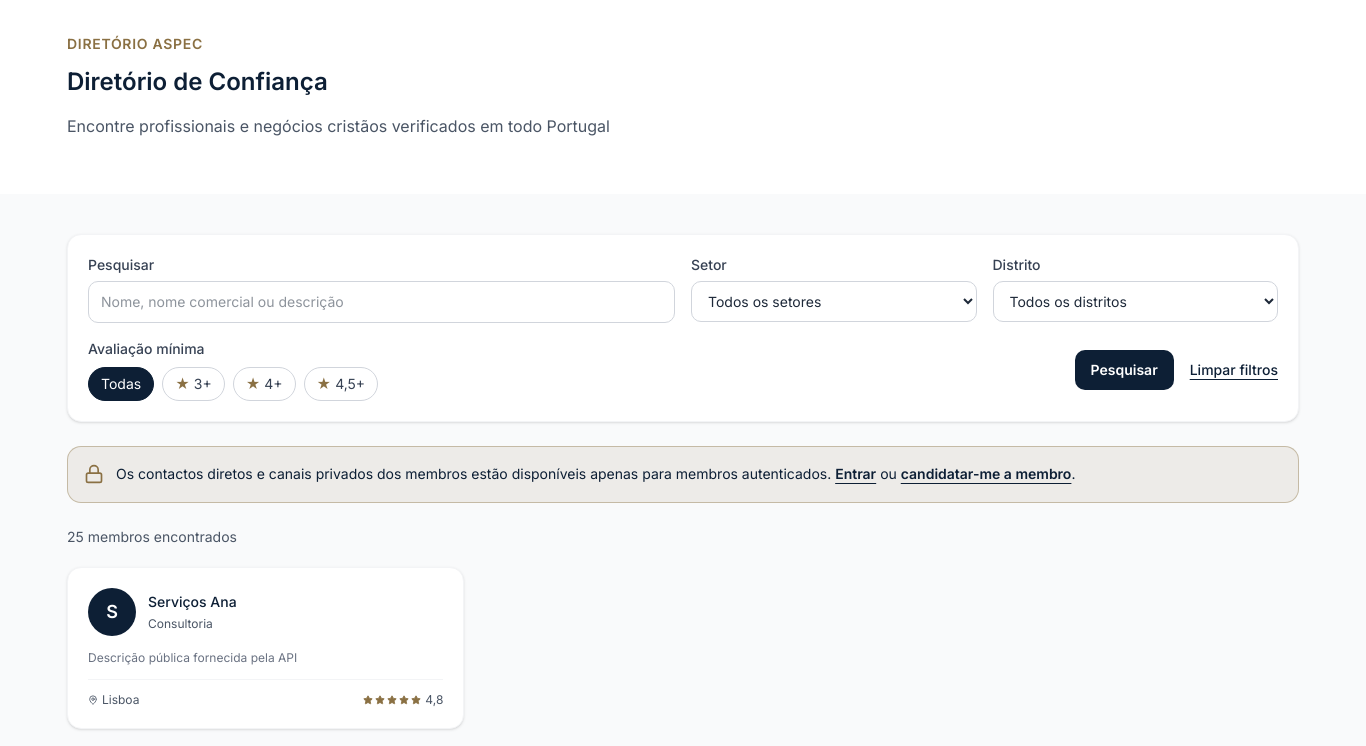
it: Diretório de membros › limpa a pesquisa pelo X nativo e regressa à primeira página preservando os outros filtros
Expected: the heading "Serviços Ana" is shown, [148, 592, 237, 612]
Select "Consultoria" in the dropdown labelled "Setor" at (834, 302), box [691, 281, 976, 322]
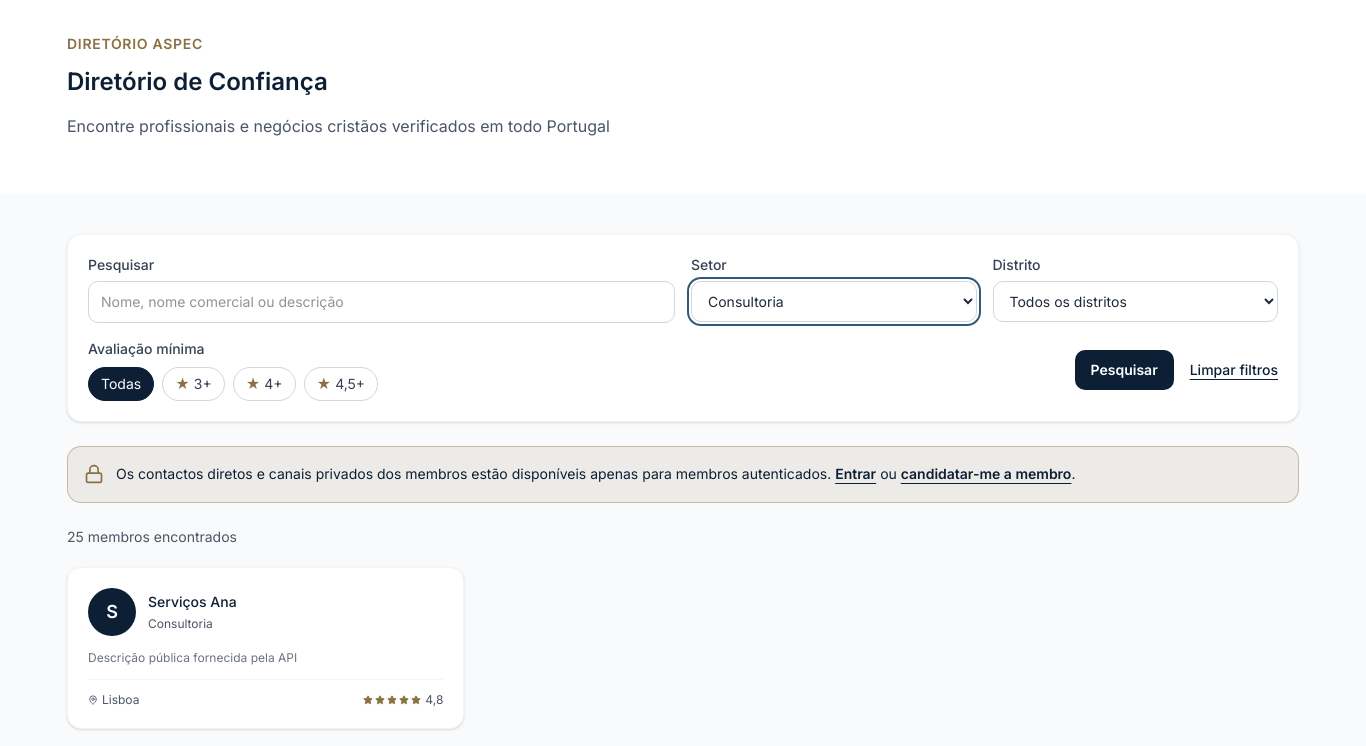
Expected: the heading "Serviços Ana" is shown, [148, 592, 237, 612]
Select "Lisboa" in the dropdown labelled "Distrito" at (1135, 302), box [992, 281, 1278, 322]
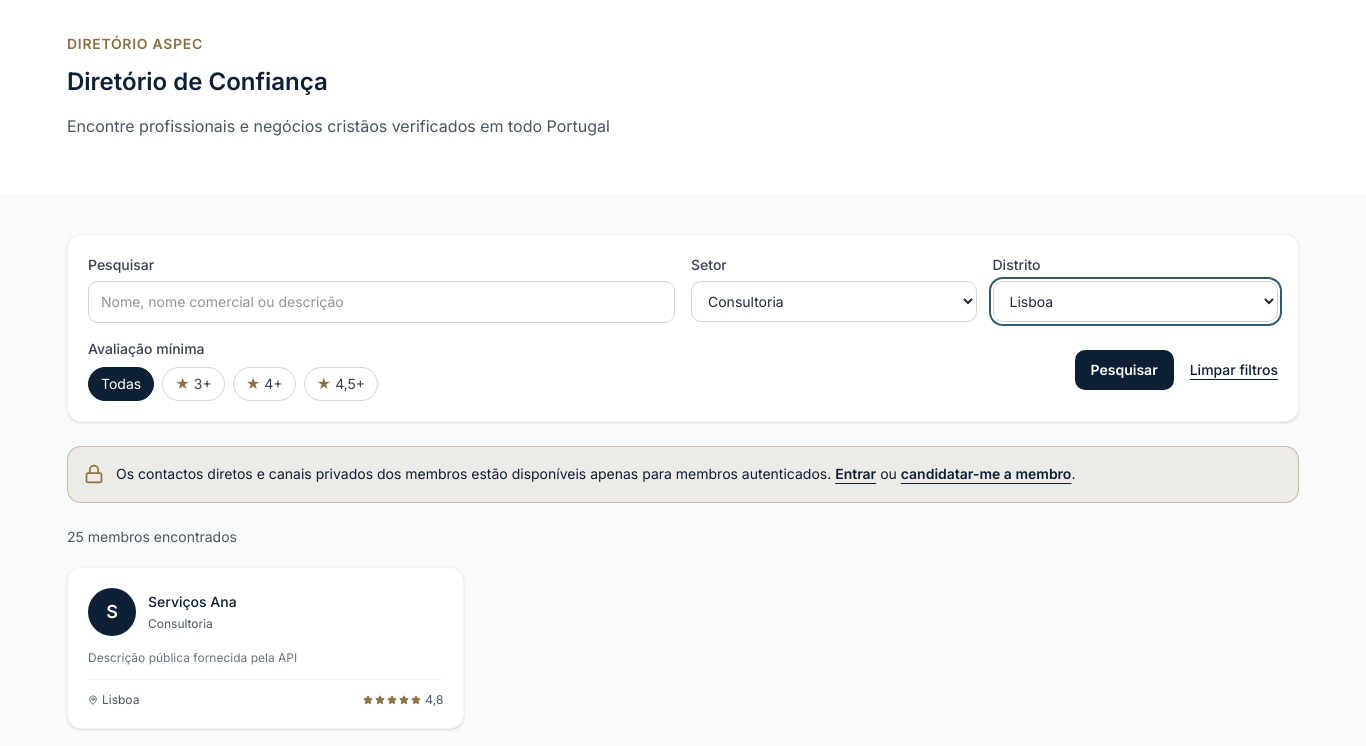
Expected: the heading "Serviços Ana" is shown, [148, 592, 237, 612]
Click the button named "Pelo menos 4 estrelas".
click(264, 384)  # box [233, 367, 296, 401]
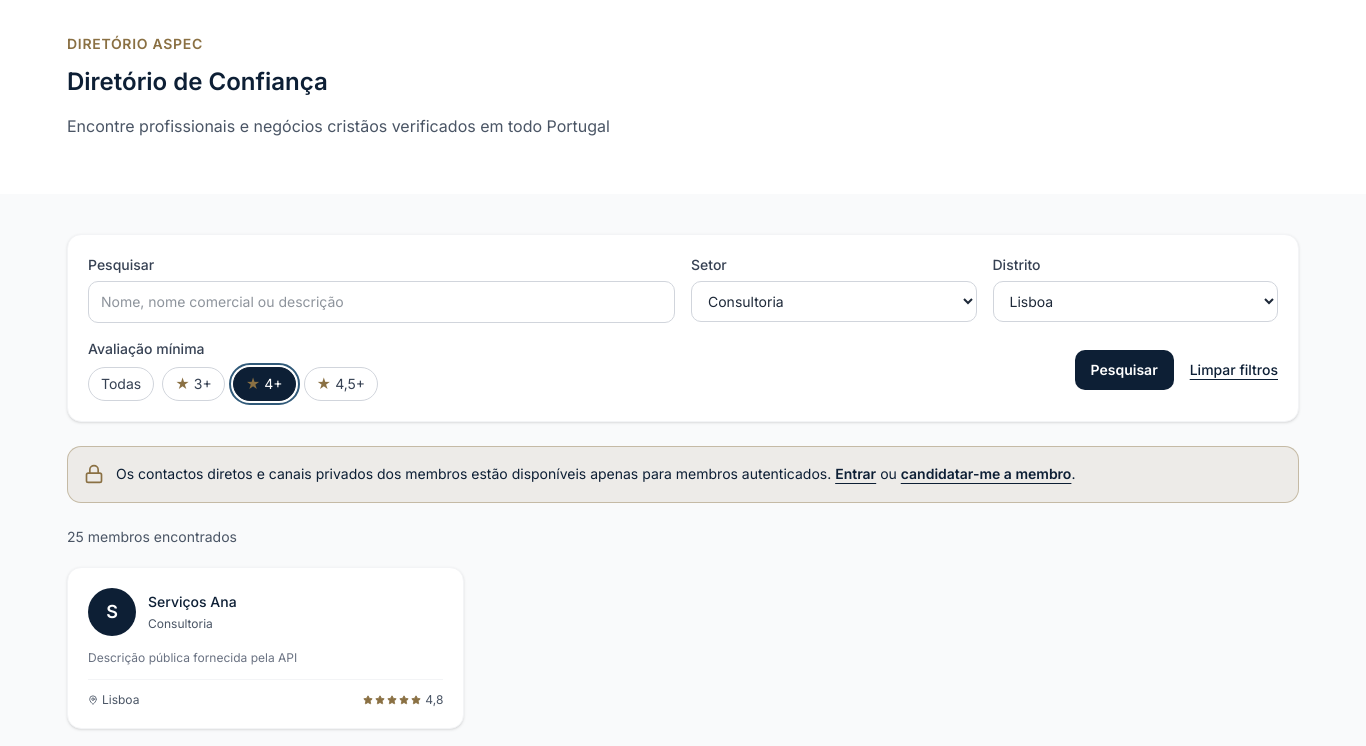
Expected: the heading "Serviços Ana" is shown, [148, 592, 237, 612]
Type "Ana" into the search field labelled "Pesquisar".
click(382, 302); type("Ana")  # box [88, 281, 675, 323]
Click the button "Pesquisar".
click(1124, 370)  # box [1074, 350, 1174, 390]
(page scrolled)
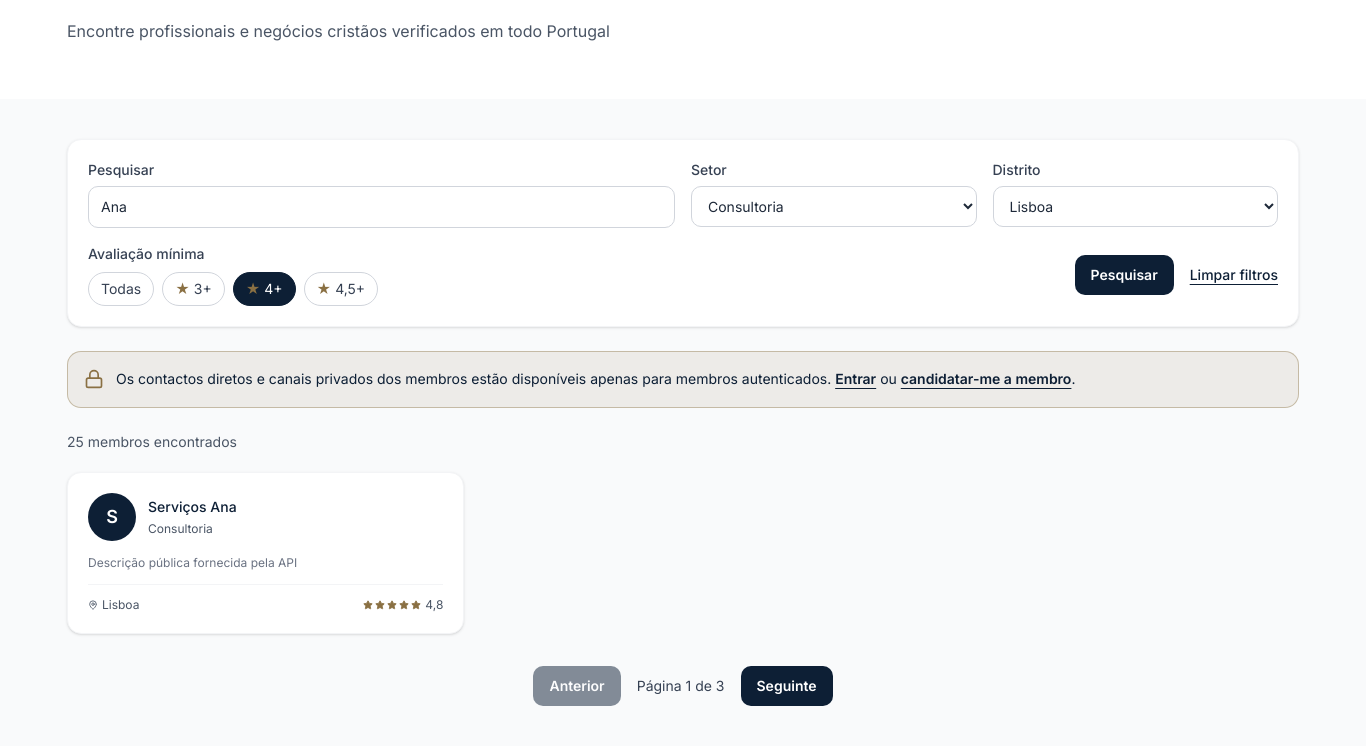
Expected: the heading "Serviços Ana" is shown, [148, 497, 237, 517]
Click the button "Seguinte".
click(786, 686)  # box [740, 666, 832, 706]
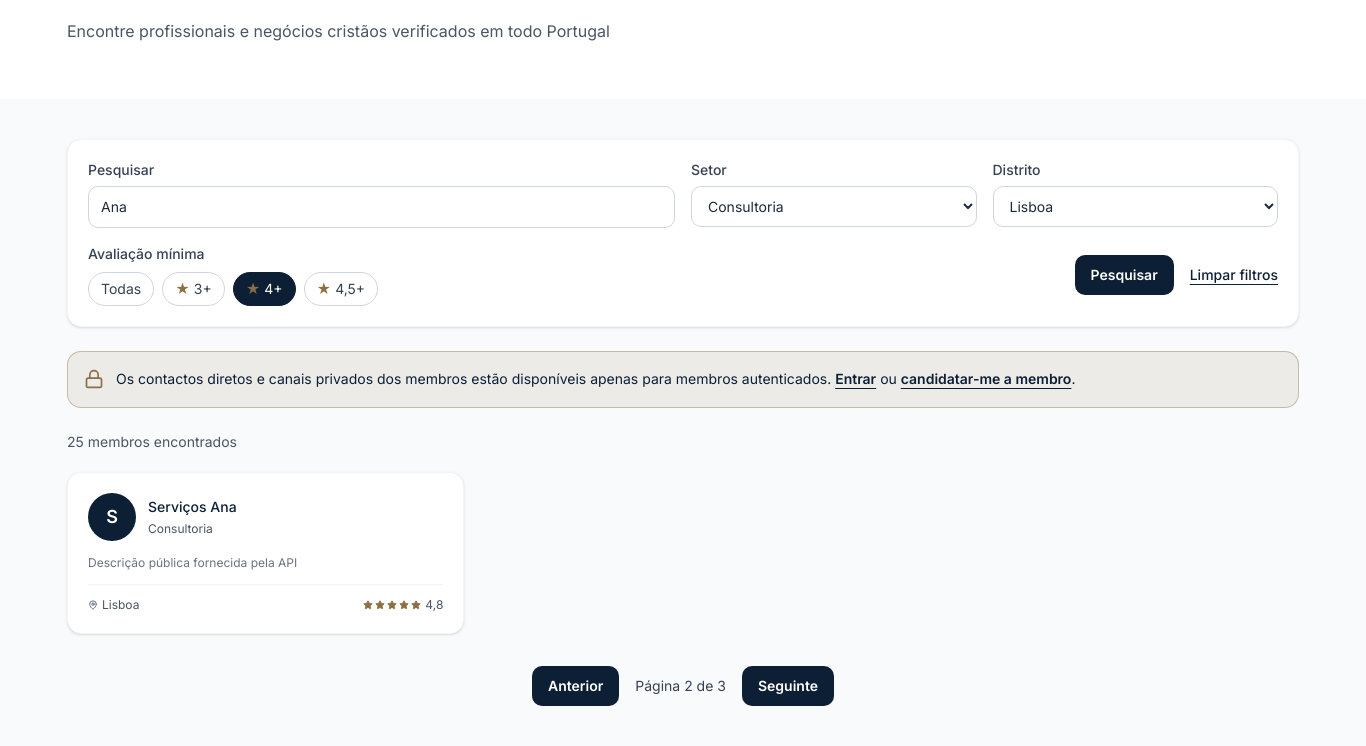
Expected: the text "Página 2 de 3" is shown, [635, 676, 726, 696]
Clear the search field labelled "Pesquisar" at (382, 207), box [88, 186, 675, 228]
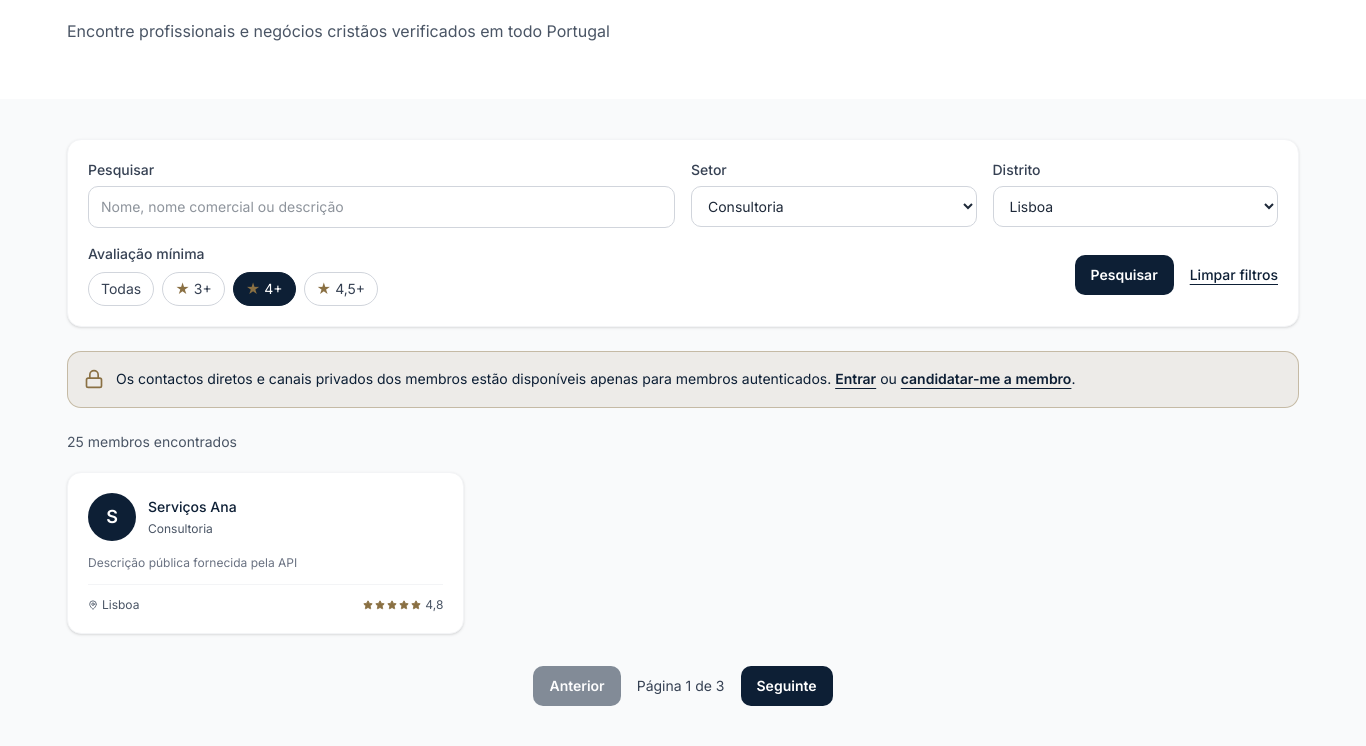
Expected: the text "Página 1 de 3" is shown, [637, 676, 724, 696]
